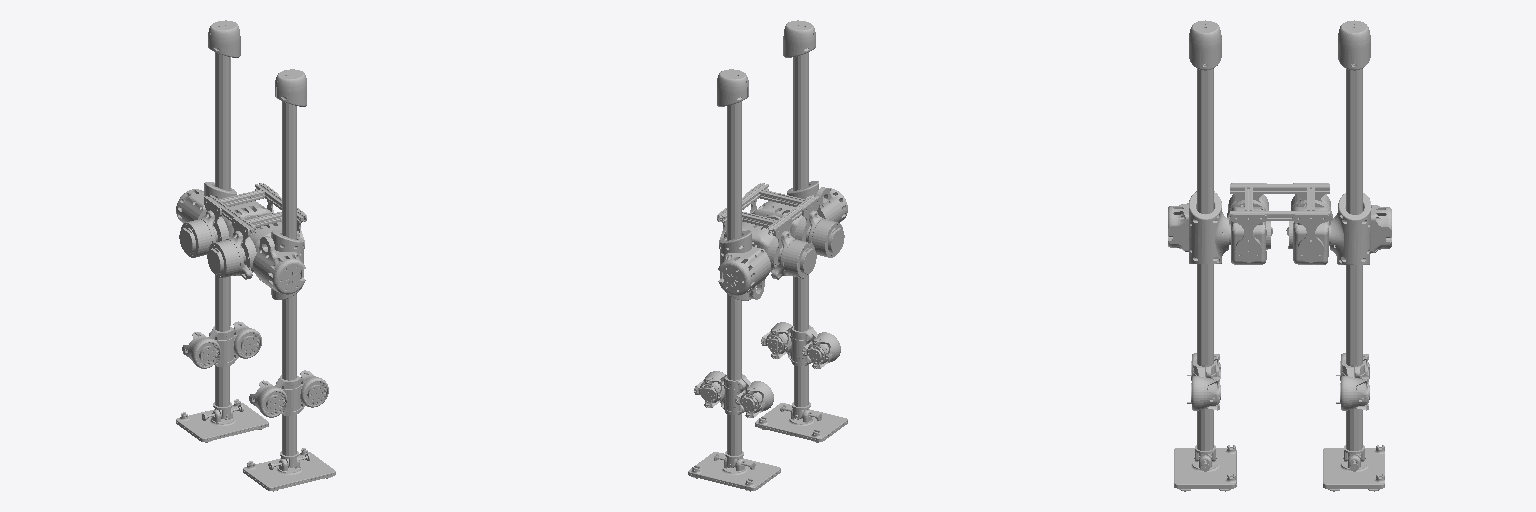
robot.urdf — slider_2_0_urdf:
<?xml version="1.0" encoding="utf-8"?>
<!-- This URDF was automatically created by SolidWorks to URDF Exporter! Originally created by [author] ([email redacted]) 
     Commit Version: 1.6.0-1-g15f4949  Build Version: 1.6.7594.29634
     For more information, please see http://wiki.ros.org/sw_urdf_exporter -->
<robot
  name="slider_2_0_urdf">
  <link
    name="base_link">
    <inertial>
      <origin
        xyz="-0.0765324246620027 4.9441866434881E-09 0.610521382214614"
        rpy="0 0 0" />
      <mass
        value="2.02469333344451" />
      <inertia
        ixx="0.00376718384406223"
        ixy="-1.32565020465757E-07"
        ixz="-4.01564478042334E-06"
        iyy="0.00209460156447236"
        iyz="4.40200770634824E-10"
        izz="0.00255446895074592" />
    </inertial>
    <visual>
      <origin
        xyz="0 0 0"
        rpy="0 0 0" />
      <geometry>
        <mesh
          filename="package://slider_2_0_urdf/meshes/base_link.STL" />
      </geometry>
      <material
        name="">
        <color
          rgba="0.752941176470588 0.752941176470588 0.752941176470588 1" />
      </material>
    </visual>
    <collision>
      <origin
        xyz="0 0 0"
        rpy="0 0 0" />
      <geometry>
        <mesh
          filename="package://slider_2_0_urdf/meshes/base_link.STL" />
      </geometry>
    </collision>
  </link>
  <link
    name="Left_Pitch_casing">
    <inertial>
      <origin
        xyz="-0.00637791780561047 0.000213831384279162 -1.17971270738038E-05"
        rpy="0 0 0" />
      <mass
        value="1.12708372672221" />
      <inertia
        ixx="0.00127122201055317"
        ixy="3.251218107481E-06"
        ixz="-4.35806917879868E-07"
        iyy="0.00204052239898519"
        iyz="-1.09023834178273E-05"
        izz="0.00154465658220456" />
    </inertial>
    <visual>
      <origin
        xyz="0 0 0"
        rpy="0 0 0" />
      <geometry>
        <mesh
          filename="package://slider_2_0_urdf/meshes/Left_Pitch_casing.STL" />
      </geometry>
      <material
        name="">
        <color
          rgba="0.752941176470588 0.752941176470588 0.752941176470588 1" />
      </material>
    </visual>
    <collision>
      <origin
        xyz="0 0 0"
        rpy="0 0 0" />
      <geometry>
        <mesh
          filename="package://slider_2_0_urdf/meshes/Left_Pitch_casing.STL" />
      </geometry>
    </collision>
  </link>
  <joint
    name="Left_Roll"
    type="revolute">
    <origin
      xyz="0 0.0749999999999995 0.591116132473436"
      rpy="0 0 0" />
    <parent
      link="base_link" />
    <child
      link="Left_Pitch_casing" />
    <axis
      xyz="-1 0 0" />
    <limit
      lower="-0.35"
      upper="1.57"
      effort="48"
      velocity="3.14" />
  </joint>
  <link
    name="Left_Slide_Casing">
    <inertial>
      <origin
        xyz="-0.0327747516406348 0.122616412056228 -0.00361644928605986"
        rpy="0 0 0" />
      <mass
        value="1.04662003082236" />
      <inertia
        ixx="0.00177420749171721"
        ixy="-8.43479504578415E-05"
        ixz="-8.76701595910206E-06"
        iyy="0.00185806902329562"
        iyz="-6.82808782201735E-05"
        izz="0.000846357923294892" />
    </inertial>
    <visual>
      <origin
        xyz="0 0 0"
        rpy="0 0 0" />
      <geometry>
        <mesh
          filename="package://slider_2_0_urdf/meshes/Left_Slide_Casing.STL" />
      </geometry>
      <material
        name="">
        <color
          rgba="0.752941176470588 0.752941176470588 0.752941176470588 1" />
      </material>
    </visual>
    <collision>
      <origin
        xyz="0 0 0"
        rpy="0 0 0" />
      <geometry>
        <mesh
          filename="package://slider_2_0_urdf/meshes/Left_Slide_Casing.STL" />
      </geometry>
    </collision>
  </link>
  <joint
    name="Left_Pitch"
    type="continuous">
    <origin
      xyz="0 0 0"
      rpy="0 0 0" />
    <parent
      link="Left_Pitch_casing" />
    <child
      link="Left_Slide_Casing" />
    <axis
      xyz="0 -1 0" />
    <limit
      effort="18"
      velocity="28" />
  </joint>
  <link
    name="Left_Leg">
    <inertial>
      <origin
        xyz="0.00186620898483418 0.000816743884367782 -0.18632048172863"
        rpy="0 0 0" />
      <mass
        value="1.85512765759961" />
      <inertia
        ixx="0.0211099736585756"
        ixy="-4.54408700087738E-07"
        ixz="4.96451706876145E-05"
        iyy="0.0222717572103878"
        iyz="-1.07295394858633E-06"
        izz="0.00176289771304861" />
    </inertial>
    <visual>
      <origin
        xyz="0 0 0"
        rpy="0 0 0" />
      <geometry>
        <mesh
          filename="package://slider_2_0_urdf/meshes/Left_Leg.STL" />
      </geometry>
      <material
        name="">
        <color
          rgba="0.752941176470588 0.752941176470588 0.752941176470588 1" />
      </material>
    </visual>
    <collision>
      <origin
        xyz="0 0 0"
        rpy="0 0 0" />
      <geometry>
        <mesh
          filename="package://slider_2_0_urdf/meshes/Left_Leg.STL" />
      </geometry>
    </collision>
  </link>
  <joint
    name="Left_Slide"
    type="prismatic">
    <origin
      xyz="0 0.104199980302619 0"
      rpy="0 0 0" />
    <parent
      link="Left_Slide_Casing" />
    <child
      link="Left_Leg" />
    <axis
      xyz="0 0 1" />
    <limit
      lower="-0.38"
      upper="0.41"
      effort="315"
      velocity="0.56" />
  </joint>
  <link
    name="Left_Foot_Pitch_Link">
    <inertial>
      <origin
        xyz="1.21192130775327E-08 -2.49876605518118E-09 -1.27517560954971E-08"
        rpy="0 0 0" />
      <mass
        value="0.0141283854462189" />
      <inertia
        ixx="1.59442165134791E-06"
        ixy="-6.21556747255079E-13"
        ixz="4.2489645445931E-13"
        iyy="1.60514807015652E-06"
        iyz="-2.53520076420128E-13"
        izz="1.51174921794827E-06" />
    </inertial>
    <visual>
      <origin
        xyz="0 0 0"
        rpy="0 0 0" />
      <geometry>
        <mesh
          filename="package://slider_2_0_urdf/meshes/Left_Foot_Pitch_Link.STL" />
      </geometry>
      <material
        name="">
        <color
          rgba="0.752941176470588 0.752941176470588 0.752941176470588 1" />
      </material>
    </visual>
    <collision>
      <origin
        xyz="0 0 0"
        rpy="0 0 0" />
      <geometry>
        <mesh
          filename="package://slider_2_0_urdf/meshes/Left_Foot_Pitch_Link.STL" />
      </geometry>
    </collision>
  </link>
  <joint
    name="Left_Foot_Pitch"
    type="continuous">
    <origin
      xyz="0 0 -0.591116132473436"
      rpy="0 0 0" />
    <parent
      link="Left_Leg" />
    <child
      link="Left_Foot_Pitch_Link" />
    <axis
      xyz="0 -1 0" />
    <limit
      lower="-20"
      upper="20"
      effort="3"
      velocity="28" />
  </joint>
  <link
    name="Left_Foot">
    <inertial>
      <origin
        xyz="0.000859432497047443 0.00107826646655129 -0.0267222413448819"
        rpy="0 0 0" />
      <mass
        value="0.412868497007575" />
      <inertia
        ixx="0.000567578914748558"
        ixy="4.94015307643317E-09"
        ixz="5.19255230250368E-10"
        iyy="0.00109766785621675"
        iyz="-2.46630968177259E-06"
        izz="0.00164597144538111" />
    </inertial>
    <visual>
      <origin
        xyz="0 0 0"
        rpy="0 0 0" />
      <geometry>
        <mesh
          filename="package://slider_2_0_urdf/meshes/Left_Foot.STL" />
      </geometry>
      <material
        name="">
        <color
          rgba="0.752941176470588 0.752941176470588 0.752941176470588 1" />
      </material>
    </visual>
    <collision>
      <origin
        xyz="0 0 0"
        rpy="0 0 0" />
      <geometry>
        <mesh
          filename="package://slider_2_0_urdf/meshes/Left_Foot.STL" />
      </geometry>
    </collision>
  </link>
  <joint
    name="Left_Foot_Roll"
    type="continuous">
    <origin
      xyz="0 0 0"
      rpy="0 0 0" />
    <parent
      link="Left_Foot_Pitch_Link" />
    <child
      link="Left_Foot" />
    <axis
      xyz="1 0 0" />
    <limit
      lower="-20"
      upper="20"
      effort="3"
      velocity="28" />
  </joint>
  <link
    name="Right_Pitch_casing">
    <inertial>
      <origin
        xyz="-0.00647797385747184 -0.000213976601378396 7.57552639663039E-06"
        rpy="0 0 0" />
      <mass
        value="1.12708290379694" />
      <inertia
        ixx="0.00127122339932927"
        ixy="-3.25951853220237E-06"
        ixz="3.70356391392349E-07"
        iyy="0.00204075639791425"
        iyz="-1.08915409219137E-06"
        izz="0.00154441812776377" />
    </inertial>
    <visual>
      <origin
        xyz="0 0 0"
        rpy="0 0 0" />
      <geometry>
        <mesh
          filename="package://slider_2_0_urdf/meshes/Right_Pitch_casing.STL" />
      </geometry>
      <material
        name="">
        <color
          rgba="0.752941176470588 0.752941176470588 0.752941176470588 1" />
      </material>
    </visual>
    <collision>
      <origin
        xyz="0 0 0"
        rpy="0 0 0" />
      <geometry>
        <mesh
          filename="package://slider_2_0_urdf/meshes/Right_Pitch_casing.STL" />
      </geometry>
    </collision>
  </link>
  <joint
    name="Right_Roll"
    type="revolute">
    <origin
      xyz="0 -0.0750000000000001 0.591116132473436"
      rpy="0 0 0" />
    <parent
      link="base_link" />
    <child
      link="Right_Pitch_casing" />
    <axis
      xyz="-0.999999999999998 0 0" />
    <limit
      lower="-0.35"
      upper="1.57"
      effort="48"
      velocity="3.14" />
  </joint>
  <link
    name="Right_Slide_Casing">
    <inertial>
      <origin
        xyz="-0.0328747660964546 -0.122663946382931 0.0011908647649936"
        rpy="0 0 0" />
      <mass
        value="1.04661946807414" />
      <inertia
        ixx="0.00177420810309571"
        ixy="8.41579473719035E-05"
        ixz="1.04335551678863E-05"
        iyy="0.0018603724204831"
        iyz="-4.8223364131695E-05"
        izz="0.000844052487985306" />
    </inertial>
    <visual>
      <origin
        xyz="0 0 0"
        rpy="0 0 0" />
      <geometry>
        <mesh
          filename="package://slider_2_0_urdf/meshes/Right_Slide_Casing.STL" />
      </geometry>
      <material
        name="">
        <color
          rgba="0.752941176470588 0.752941176470588 0.752941176470588 1" />
      </material>
    </visual>
    <collision>
      <origin
        xyz="0 0 0"
        rpy="0 0 0" />
      <geometry>
        <mesh
          filename="package://slider_2_0_urdf/meshes/Right_Slide_Casing.STL" />
      </geometry>
    </collision>
  </link>
  <joint
    name="Right_Pitch"
    type="continuous">
    <origin
      xyz="0 0 0"
      rpy="0 0 0" />
    <parent
      link="Right_Pitch_casing" />
    <child
      link="Right_Slide_Casing" />
    <axis
      xyz="0 1 0" />
    <limit
      effort="18"
      velocity="28" />
  </joint>
  <link
    name="Right_Leg">
    <inertial>
      <origin
        xyz="0.00186623868204826 0.000816728951440998 -0.1863204333875"
        rpy="0 0 0" />
      <mass
        value="1.85512727949778" />
      <inertia
        ixx="0.0211099734460687"
        ixy="-4.53803560950004E-07"
        ixz="4.9645491041883E-05"
        iyy="0.0222717558596174"
        iyz="-1.07278111285694E-06"
        izz="0.00176289645458729" />
    </inertial>
    <visual>
      <origin
        xyz="0 0 0"
        rpy="0 0 0" />
      <geometry>
        <mesh
          filename="package://slider_2_0_urdf/meshes/Right_Leg.STL" />
      </geometry>
      <material
        name="">
        <color
          rgba="0.752941176470588 0.752941176470588 0.752941176470588 1" />
      </material>
    </visual>
    <collision>
      <origin
        xyz="0 0 0"
        rpy="0 0 0" />
      <geometry>
        <mesh
          filename="package://slider_2_0_urdf/meshes/Right_Leg.STL" />
      </geometry>
    </collision>
  </link>
  <joint
    name="Right_Slide"
    type="prismatic">
    <origin
      xyz="0 -0.104199980302619 0"
      rpy="0 0 0" />
    <parent
      link="Right_Slide_Casing" />
    <child
      link="Right_Leg" />
    <axis
      xyz="0 0 1" />
    <limit
      lower="-0.38"
      upper="0.41"
      effort="315"
      velocity="0.56" />
  </joint>
  <link
    name="Right_Foot_Pitch_Link">
    <inertial>
      <origin
        xyz="1.13095142105502E-08 -2.21952002055215E-08 -1.27526379456455E-08"
        rpy="0 0 0" />
      <mass
        value="0.014128385446219" />
      <inertia
        ixx="1.59442165134791E-06"
        ixy="-6.21556748216398E-13"
        ixz="4.24896453989181E-13"
        iyy="1.60514807015652E-06"
        iyz="-2.5352007436654E-13"
        izz="1.51174921794827E-06" />
    </inertial>
    <visual>
      <origin
        xyz="0 0 0"
        rpy="0 0 0" />
      <geometry>
        <mesh
          filename="package://slider_2_0_urdf/meshes/Right_Foot_Pitch_Link.STL" />
      </geometry>
      <material
        name="">
        <color
          rgba="0.752941176470588 0.752941176470588 0.752941176470588 1" />
      </material>
    </visual>
    <collision>
      <origin
        xyz="0 0 0"
        rpy="0 0 0" />
      <geometry>
        <mesh
          filename="package://slider_2_0_urdf/meshes/Right_Foot_Pitch_Link.STL" />
      </geometry>
    </collision>
  </link>
  <joint
    name="Right_Foot_Pitch"
    type="continuous">
    <origin
      xyz="0 0 -0.591116132473436"
      rpy="0 0 0" />
    <parent
      link="Right_Leg" />
    <child
      link="Right_Foot_Pitch_Link" />
    <axis
      xyz="0 1 0" />
    <limit
      lower="-20"
      upper="20"
      effort="3"
      velocity="28" />
  </joint>
  <link
    name="Right_Foot">
    <inertial>
      <origin
        xyz="0.000859431687348554 0.00107824677010171 -0.0267222413457578"
        rpy="0 0 0" />
      <mass
        value="0.412868497007574" />
      <inertia
        ixx="0.000567578914748551"
        ixy="4.94015307639139E-09"
        ixz="5.19255230283473E-10"
        iyy="0.00109766785621674"
        iyz="-2.46630968177226E-06"
        izz="0.0016459714453811" />
    </inertial>
    <visual>
      <origin
        xyz="0 0 0"
        rpy="0 0 0" />
      <geometry>
        <mesh
          filename="package://slider_2_0_urdf/meshes/Right_Foot.STL" />
      </geometry>
      <material
        name="">
        <color
          rgba="0.752941176470588 0.752941176470588 0.752941176470588 1" />
      </material>
    </visual>
    <collision>
      <origin
        xyz="0 0 0"
        rpy="0 0 0" />
      <geometry>
        <mesh
          filename="package://slider_2_0_urdf/meshes/Right_Foot.STL" />
      </geometry>
    </collision>
  </link>
  <joint
    name="Right_Foot_Roll"
    type="continuous">
    <origin
      xyz="0 0 0"
      rpy="0 0 0" />
    <parent
      link="Right_Foot_Pitch_Link" />
    <child
      link="Right_Foot" />
    <axis
      xyz="1 0 0" />
    <limit
      lower="-20"
      upper="20"
      effort="3"
      velocity="28" />
  </joint>




</robot>

--- Facts derived from the render (not from the file) ---
Views: 3 orthographic renders of the robot side by side, from view 1: azimuth 30°, elevation 25°; view 2: azimuth 150°, elevation 25°; view 3: azimuth 270°, elevation 25°.
Robot: slider_2_0_urdf — 11 links, 10 joints (2 revolute, 6 continuous, 2 prismatic); root link base_link; default pose: every joint at zero.
Links seen in each view (by area): view 1: Right_Leg, Left_Leg, base_link, Right_Slide_Casing, Right_Foot, Left_Foot, Left_Slide_Casing, Left_Pitch_casing; view 2: Left_Leg, Right_Leg, base_link, Left_Slide_Casing, Left_Foot, Right_Foot, Right_Slide_Casing, Right_Pitch_casing, Left_Pitch_casing; view 3: Right_Leg, Left_Leg, base_link, Left_Slide_Casing, Right_Slide_Casing, Right_Foot, Left_Foot, Right_Pitch_casing, Left_Pitch_casing.
Link boxes in pixels (x1,y1,x2,y2): Right_Leg: [249, 69, 328, 467]; Left_Leg: [182, 20, 261, 419]; base_link: [179, 183, 306, 279]; Right_Slide_Casing: [253, 230, 305, 299]; Right_Foot: [243, 448, 335, 491]; Left_Foot: [176, 399, 268, 442]; Left_Slide_Casing: [176, 182, 236, 223]; Left_Pitch_casing: [213, 201, 271, 241]; Left_Leg: [694, 69, 773, 467]; Right_Leg: [761, 20, 840, 419]; base_link: [717, 183, 844, 279]; Left_Slide_Casing: [718, 230, 770, 300]; Left_Foot: [688, 452, 780, 491]; Right_Foot: [755, 403, 847, 442]; Right_Slide_Casing: [787, 181, 847, 222]; Right_Pitch_casing: [752, 201, 810, 241]; Left_Pitch_casing: [724, 221, 782, 263]; Right_Leg: [1187, 20, 1221, 461]; Left_Leg: [1336, 20, 1370, 461]; base_link: [1227, 183, 1332, 262]; Left_Slide_Casing: [1330, 193, 1391, 264]; Right_Slide_Casing: [1168, 191, 1228, 263]; Right_Foot: [1174, 445, 1236, 491]; Left_Foot: [1323, 445, 1384, 491]; Right_Pitch_casing: [1224, 207, 1270, 264]; Left_Pitch_casing: [1288, 207, 1330, 264].
Size in the robot's own frame: 0.2803 by 0.5412 by 1.19 metres.
Meshes: 11 distinct files referenced, 11 mesh visuals loaded (11 binary STL).